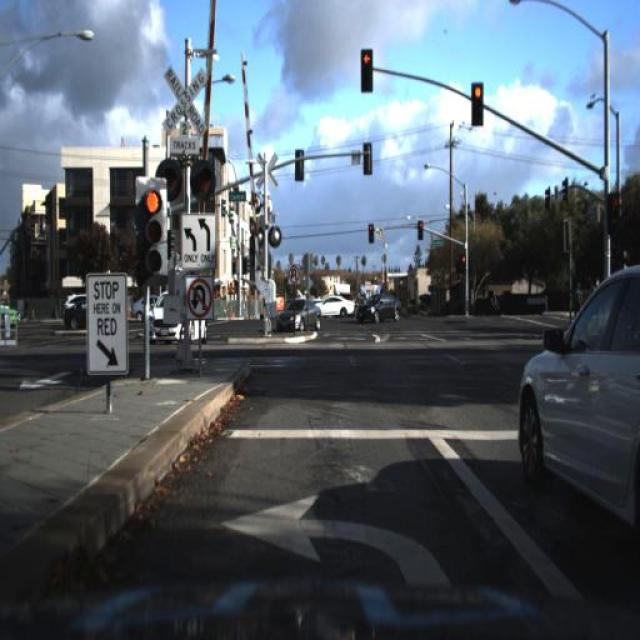car: (515, 242, 639, 538), (514, 263, 638, 542), (136, 275, 212, 343), (354, 288, 404, 328), (353, 288, 403, 324), (278, 299, 321, 335), (60, 293, 102, 328), (273, 300, 322, 330), (52, 300, 88, 332), (319, 288, 355, 320)
trafficLight: (630, 302, 640, 352), (572, 280, 583, 322), (492, 292, 498, 316)
trafficLight-RedLeft: (132, 177, 168, 278), (135, 170, 169, 258), (606, 191, 620, 243), (470, 82, 484, 126), (472, 76, 487, 116), (364, 219, 374, 249), (367, 220, 377, 246), (416, 217, 426, 242), (458, 252, 468, 277), (416, 218, 425, 243), (458, 251, 467, 268)
trafficLight-Yellow: (357, 44, 372, 78), (361, 46, 373, 86)
